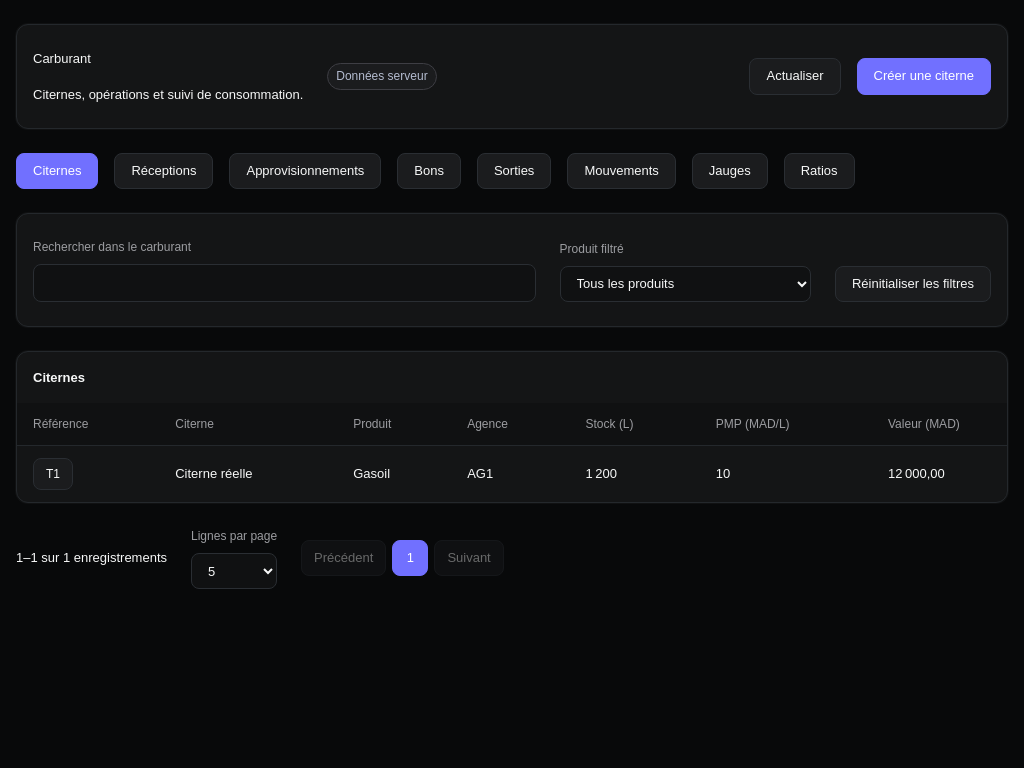
Scenario: Fuel connected presentation › signals missing history and sends reception without an unsupported date
Click the button "Réceptions" at (164, 171), box [114, 153, 213, 189]
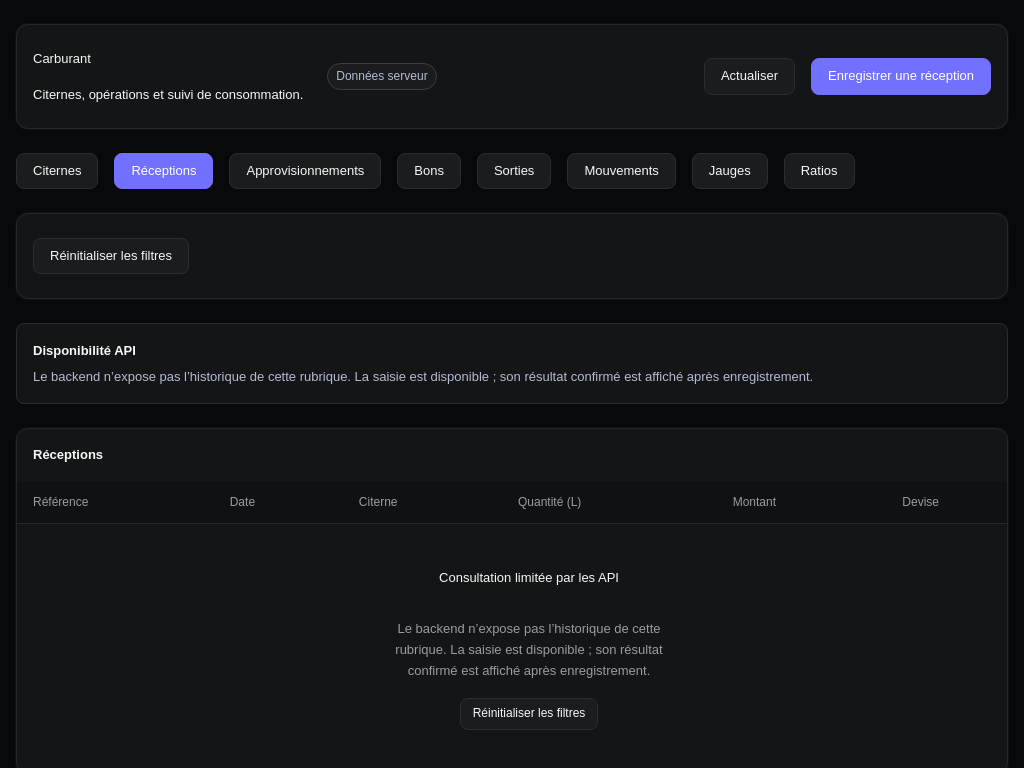
Check: the text "Consultation limitée par les API" is shown, box [439, 568, 619, 587]
Click the button "Enregistrer une réception" at (901, 76), box [811, 58, 991, 95]
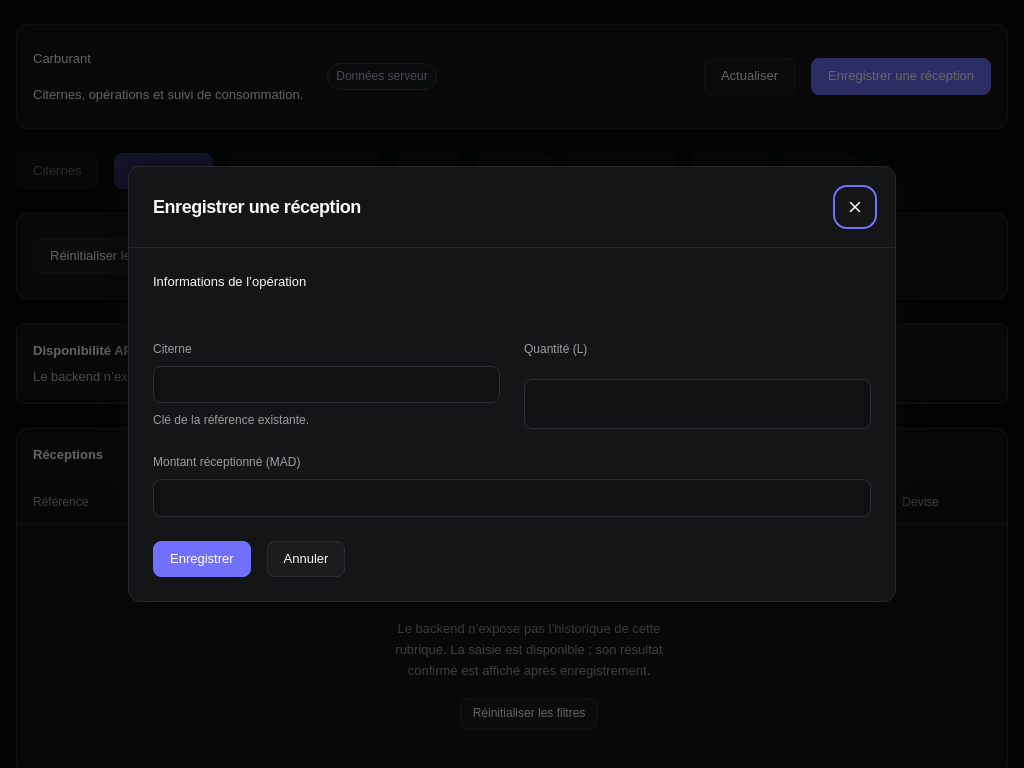
Type "T1" into the field labelled "Citerne" at (326, 384), box [153, 366, 500, 403]
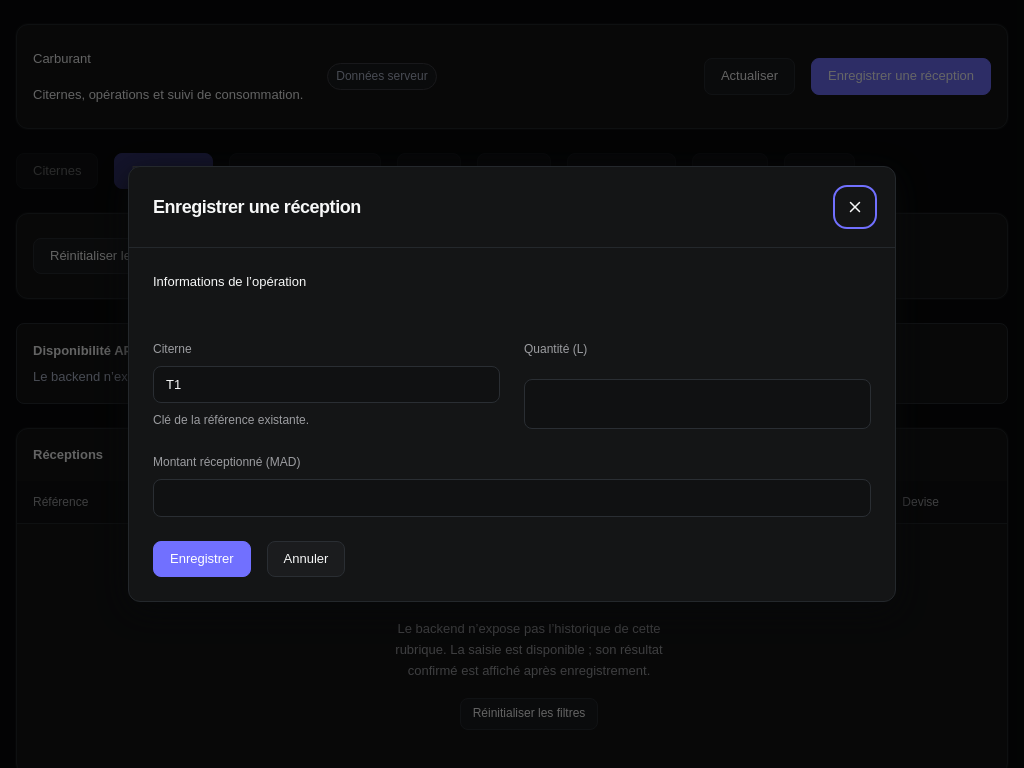
Type "100" into the number field labelled "Quantité (L)" at (698, 404), box [524, 379, 871, 429]
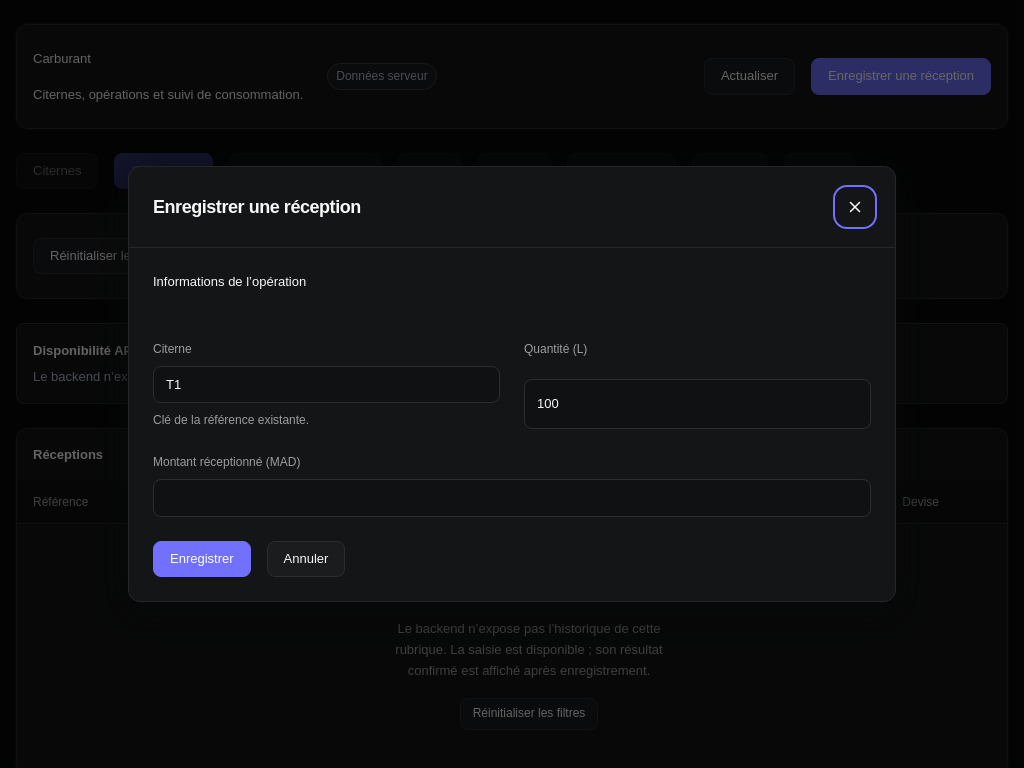
Type "1000" into the number field labelled "Montant réceptionné (MAD)" at (512, 498), box [153, 479, 871, 517]
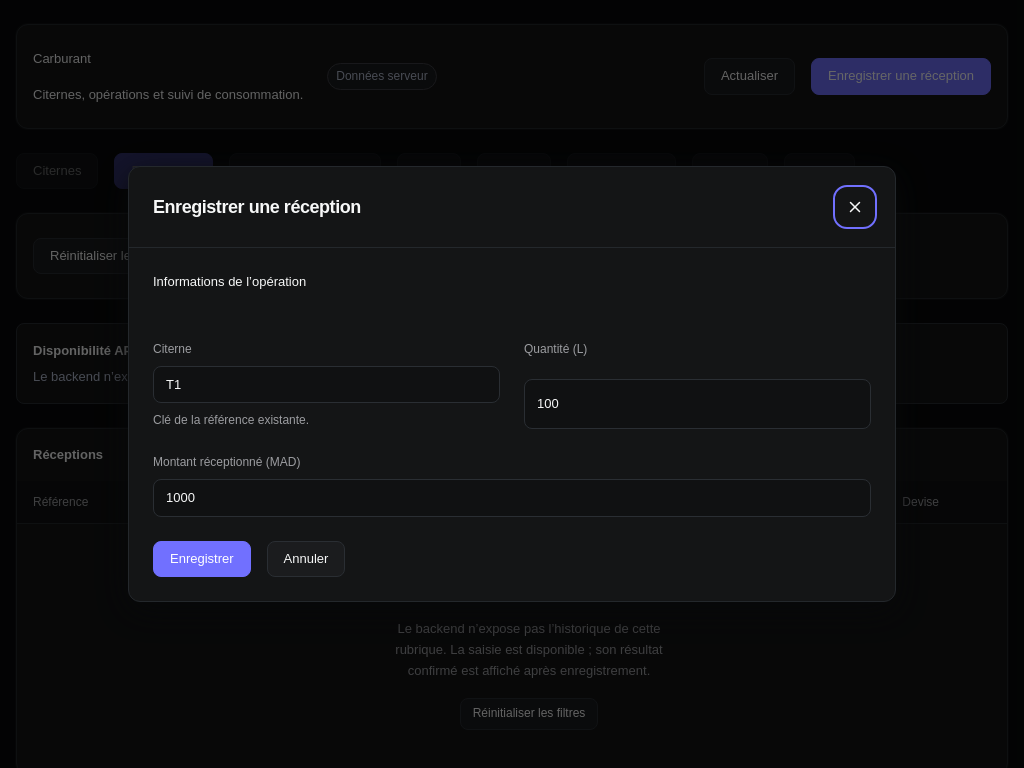
Click the button "Enregistrer" at (202, 559), box [153, 541, 251, 577]
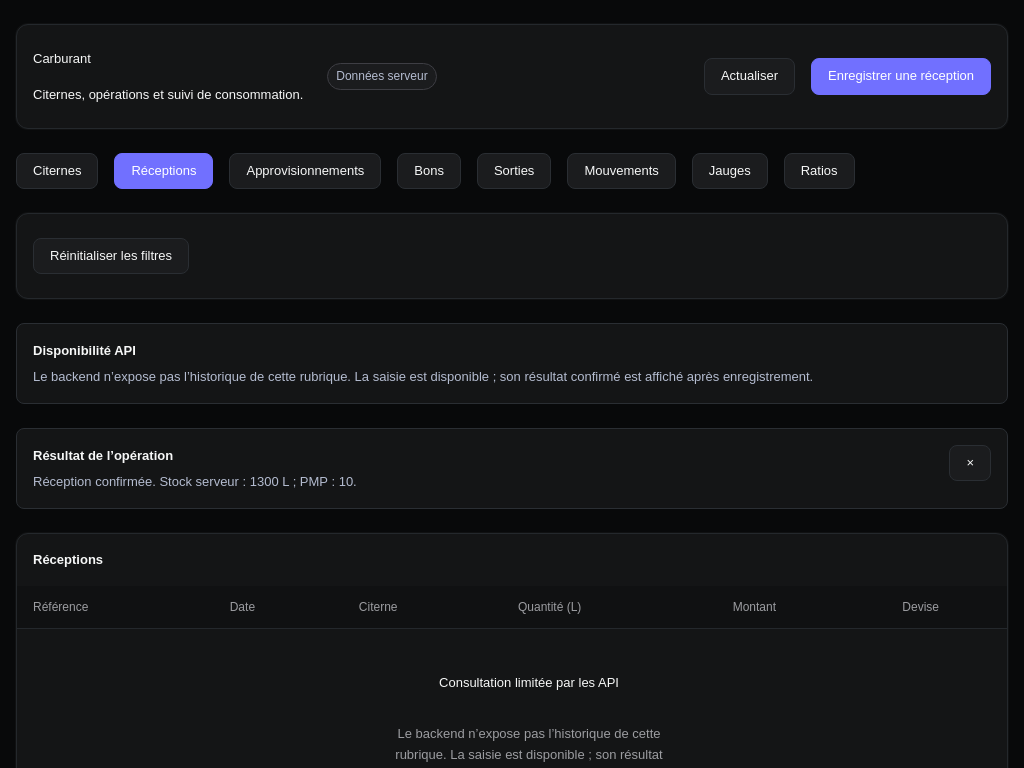
Check: the text "Réception confirmée. Stock serveur : 1300" is shown, box [33, 474, 357, 489]
